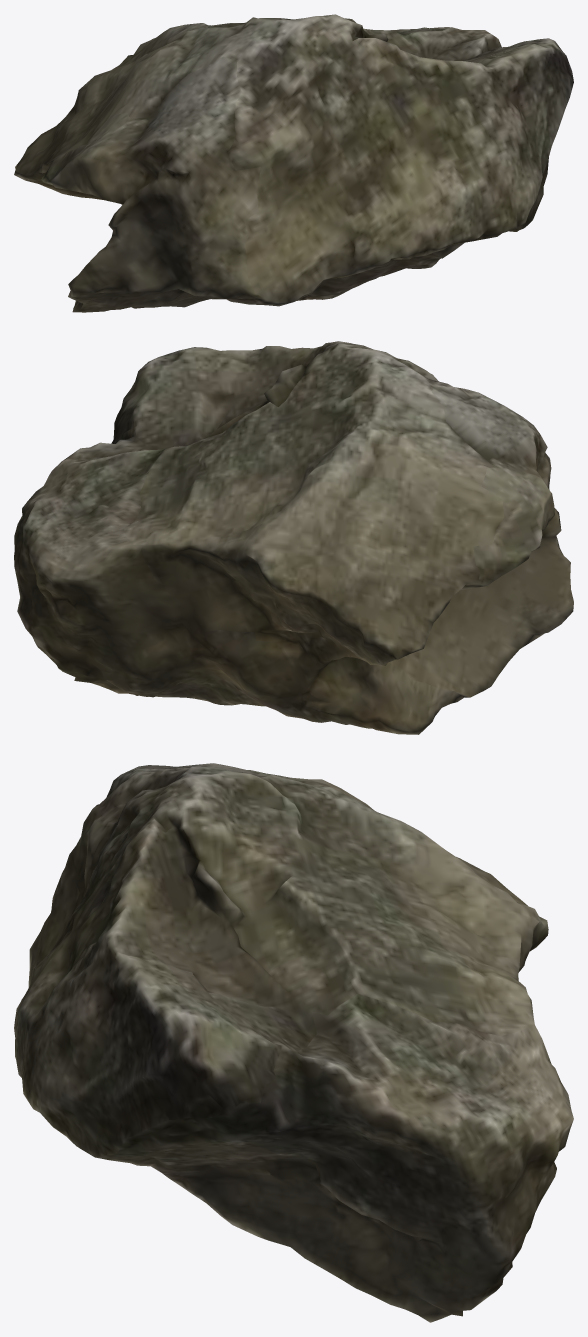
File: mossrock-11.glb
3 views of the same model, one above another, from view 1: azimuth 30°, elevation 25°; view 2: azimuth 150°, elevation 25°; view 3: azimuth 270°, elevation 25° (orthographic). The views are drawn at different scales.
Visible parts, largest first — view 1: rock_moss_set_02_rock11; view 2: rock_moss_set_02_rock11; view 3: rock_moss_set_02_rock11.
Boxes of the visible parts, left/top/right/bottom form: rock_moss_set_02_rock11: left=14, top=14, right=573, bottom=312; rock_moss_set_02_rock11: left=14, top=341, right=573, bottom=734; rock_moss_set_02_rock11: left=14, top=763, right=573, bottom=1322.
Bounding box in the file's own units: 1.95 × 1.31 × 1.53.
Materials: 1 (1 with a texture image).
